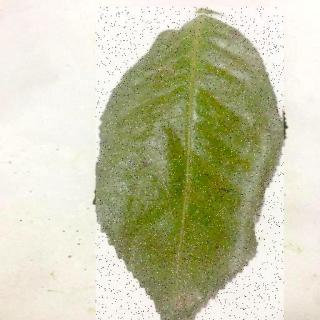Red Leaf Spot: (97, 8, 285, 320)
